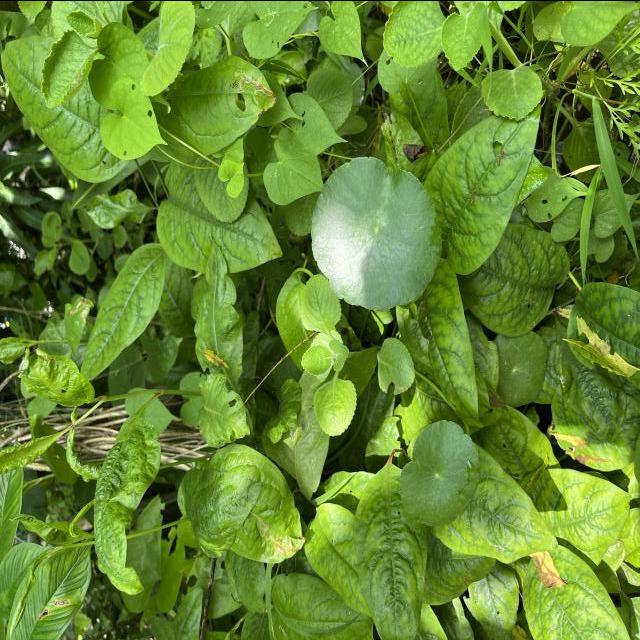Bacopa monnieri: (310, 154, 444, 312), (396, 418, 482, 527), (490, 326, 550, 408)
